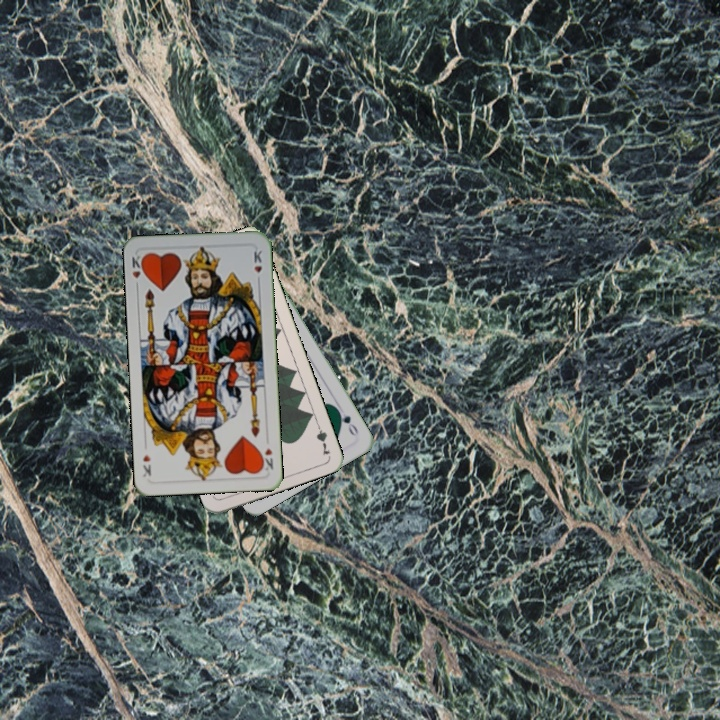G7: (312, 418, 333, 458)
GO: (332, 404, 361, 440)
HK: (128, 251, 147, 291), (257, 444, 276, 473)
